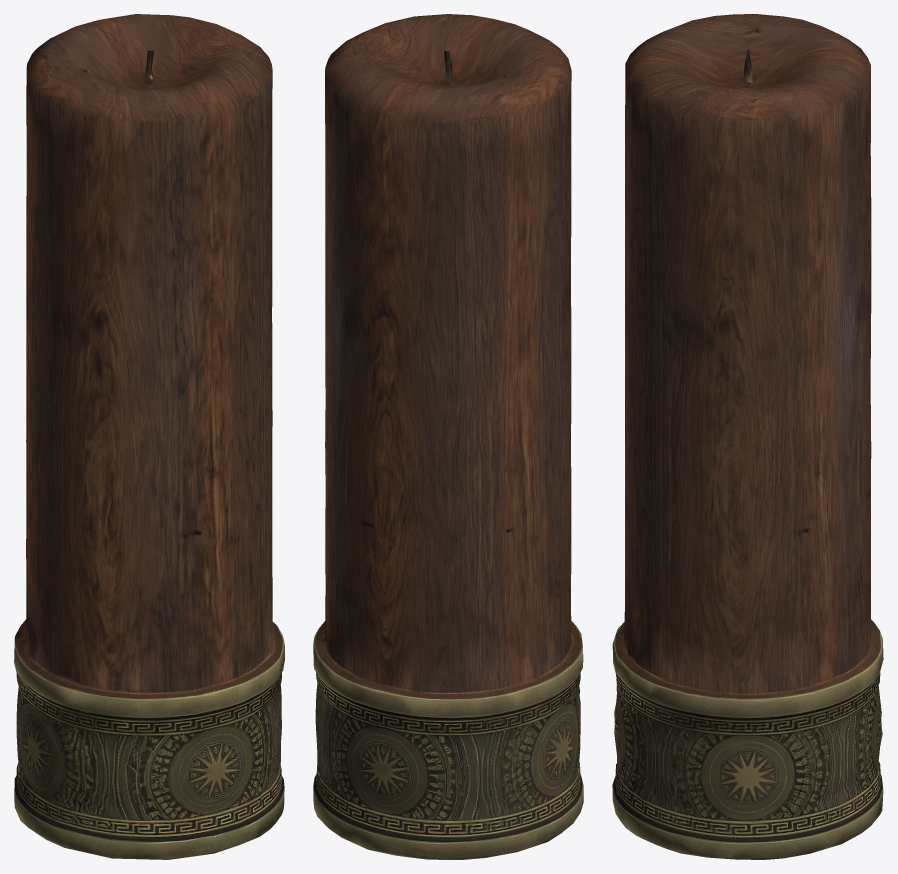
The model's file is p_woodpillar.glb.
The picture shows the model from 3 angles, left to right: view 1: azimuth 30°, elevation 25°; view 2: azimuth 150°, elevation 25°; view 3: azimuth 270°, elevation 25°; orthographic projection.
Visible parts, largest first — view 1: Mesh_0; view 2: Mesh_0; view 3: Mesh_0.
Boxes of the visible parts, box(x1,y1,x2,y2) form: Mesh_0: box(14, 14, 284, 859); Mesh_0: box(313, 14, 583, 859); Mesh_0: box(612, 14, 883, 859).
Size of the model in its own units: 0.6214 by 1.91 by 0.6222.
1 material, 1 textured.
